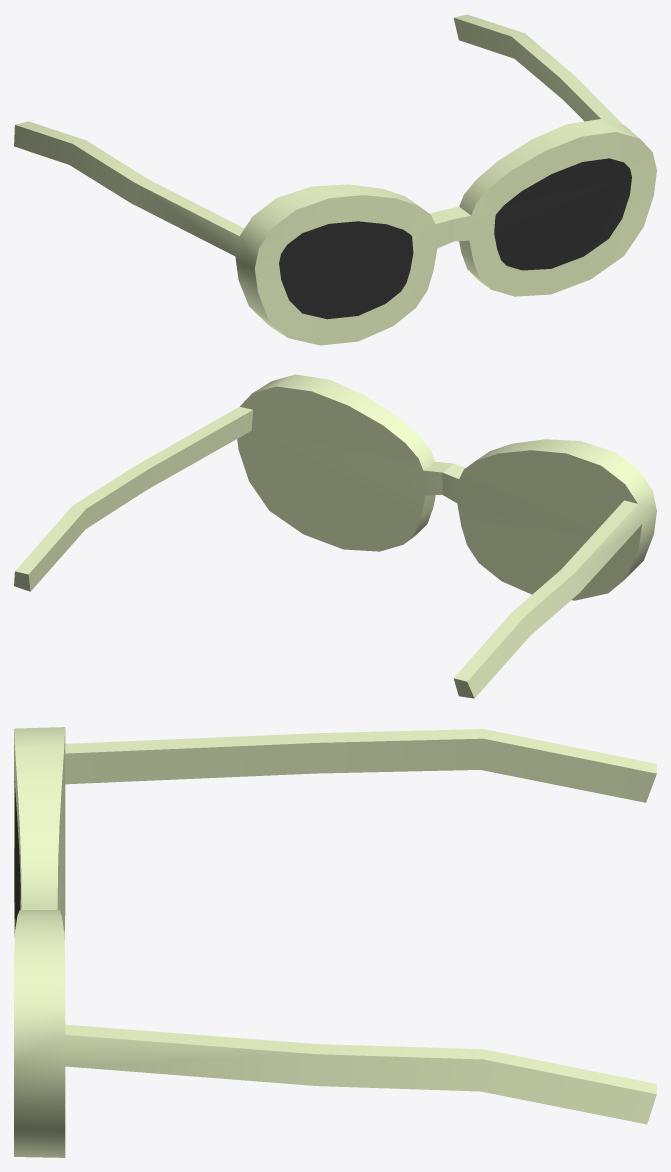
Rendered from Sunglass2.fbx.
The picture shows the model from 3 angles, top to bottom: view 1: azimuth 30°, elevation 25°; view 2: azimuth 150°, elevation 25°; view 3: azimuth 270°, elevation 25°; orthographic projection. The views are drawn at different scales.
Visible parts, largest first — view 1: Plane.005; view 2: Plane.005; view 3: Plane.005.
Boxes of the visible parts, box(x1,y1,x2,y2) form: Plane.005: box(14, 14, 656, 345); Plane.005: box(14, 374, 656, 698); Plane.005: box(14, 727, 656, 1157).
Bounding box in the file's own units: 14.61 × 4.58 × 11.79.
